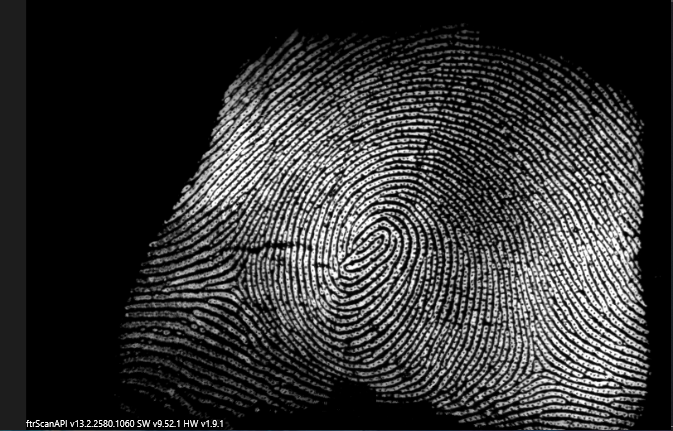deltas: (504, 337, 569, 391), (206, 258, 255, 311)
nucleo: (335, 218, 398, 278)
